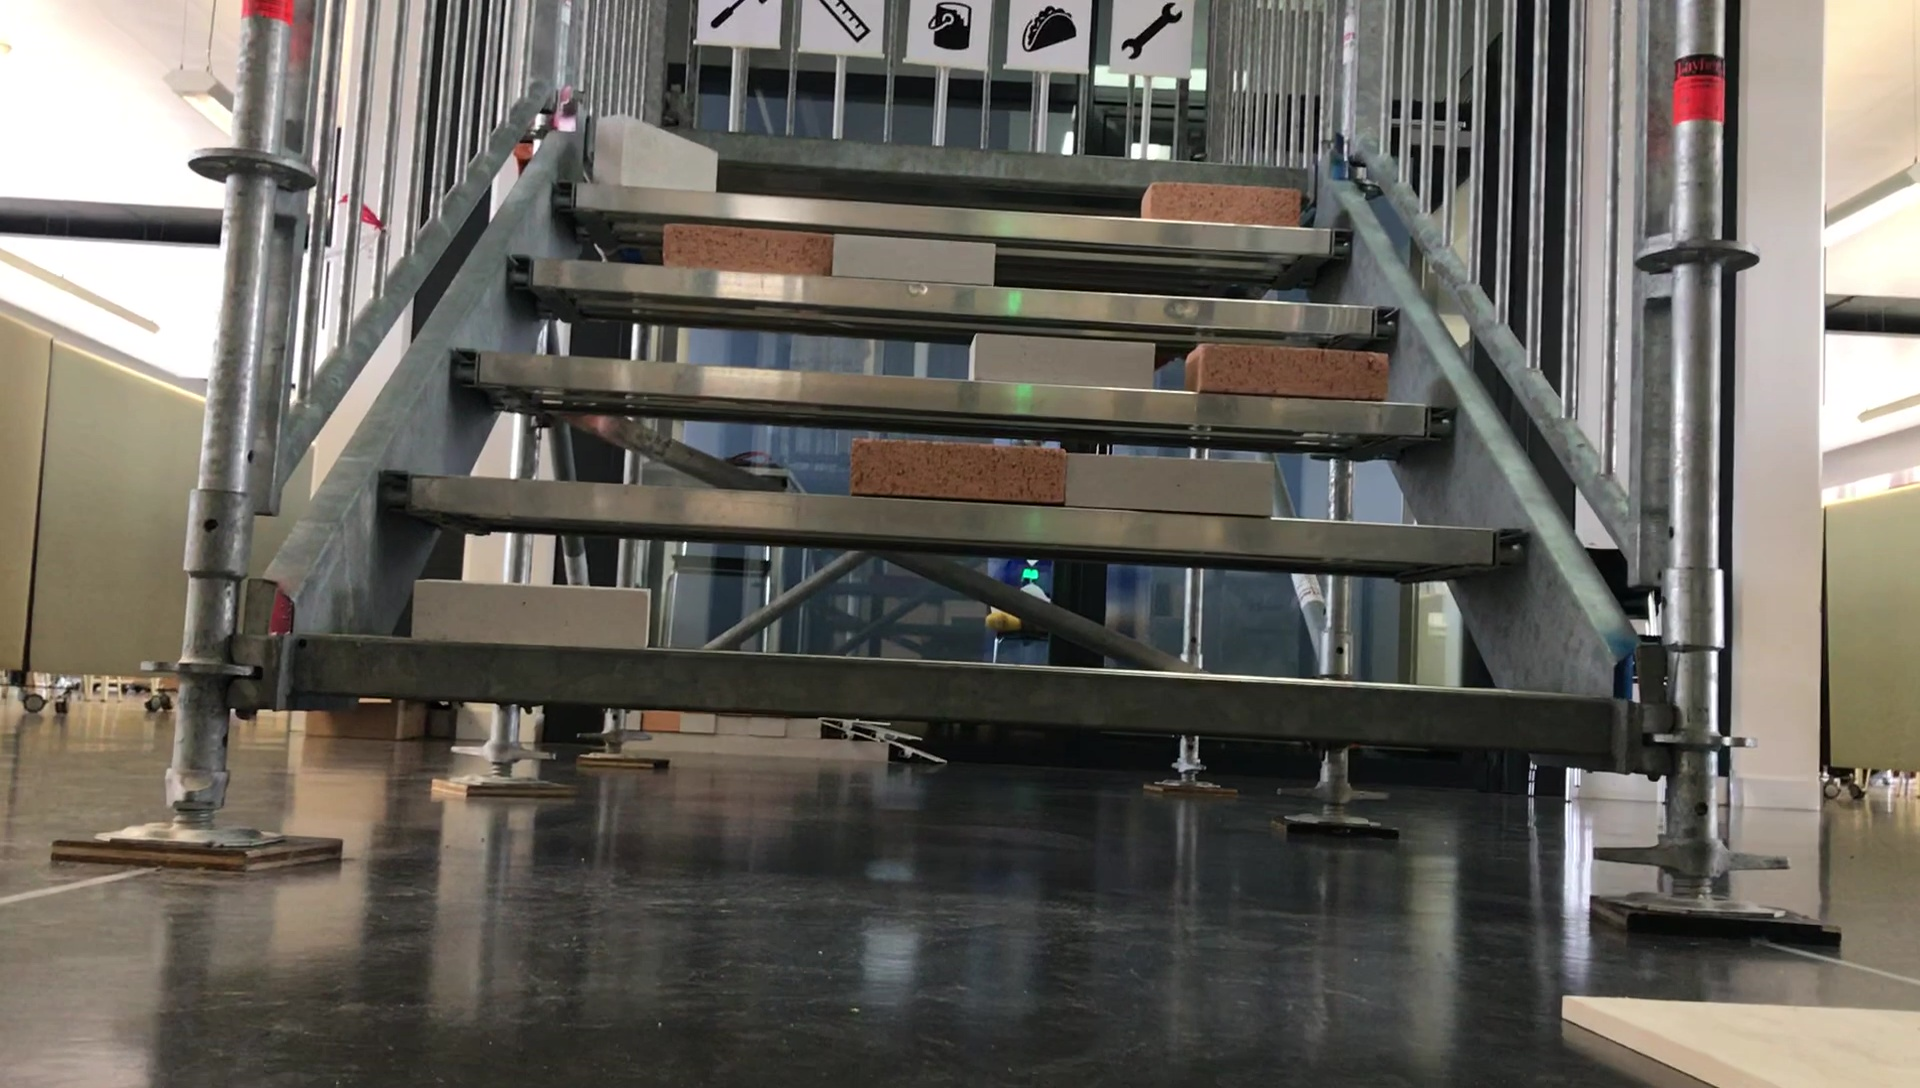brick: (415, 580, 647, 648), (1065, 452, 1275, 514), (852, 440, 1060, 502), (1188, 346, 1389, 401), (969, 332, 1155, 388), (661, 223, 831, 280), (595, 113, 715, 190), (835, 233, 996, 282), (1141, 182, 1298, 226)
edge: (295, 634, 1613, 750), (378, 473, 1526, 578), (447, 349, 1452, 450), (502, 257, 1396, 346), (550, 182, 1353, 255)
stairs: (53, 5, 1842, 957)
steps: (284, 106, 1630, 795)
